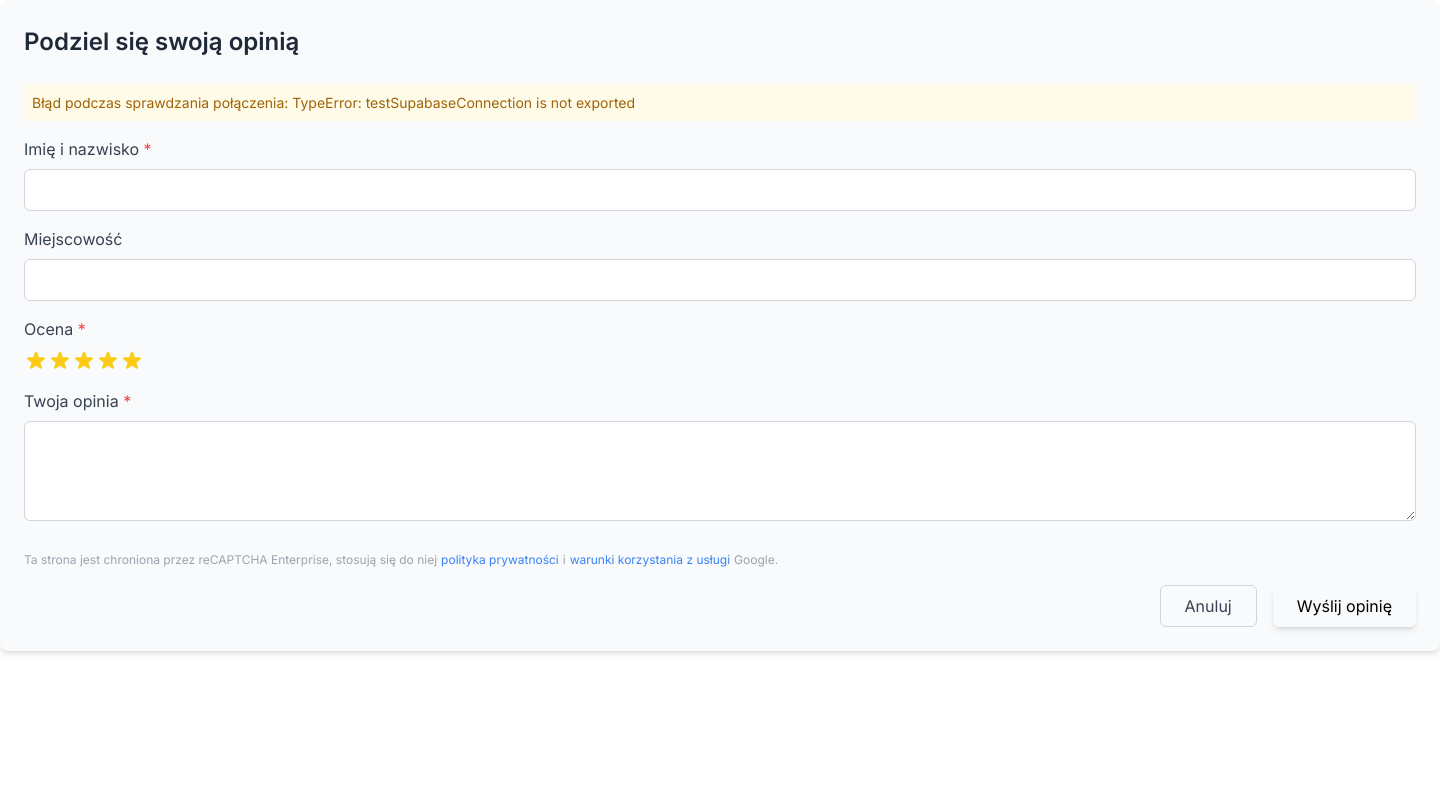
Test: TestimonialForm › obsługuje błąd podczas dodawania opinii
# Wypełnij formularz
Type "Jan Kowalski" into the field labelled "Imię i nazwisko *" at (720, 190), box left=24, top=169, right=1416, bottom=211
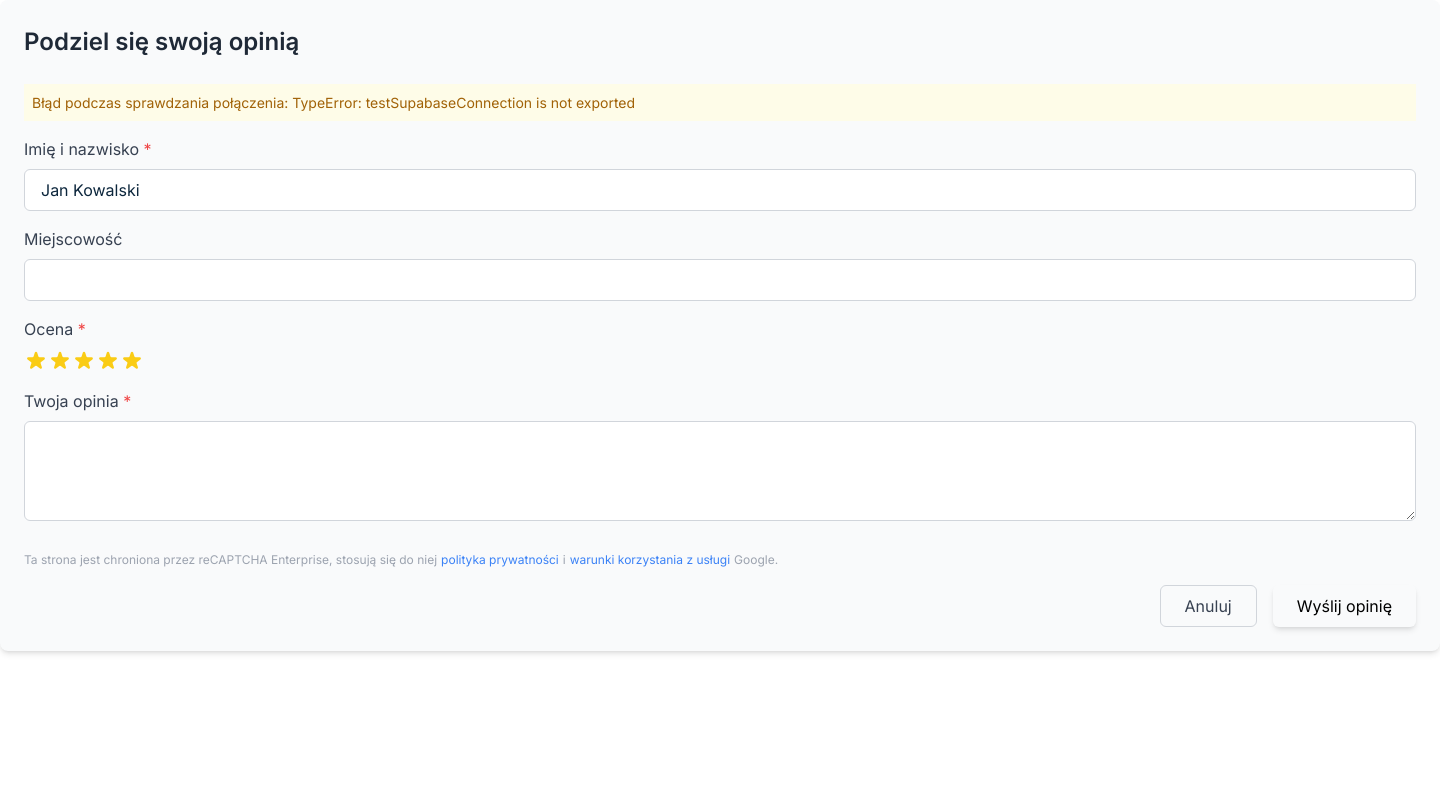
Type "Świetna obsługa, polecam!" into the text box labelled "Twoja opinia *" at (720, 471), box left=24, top=421, right=1416, bottom=521
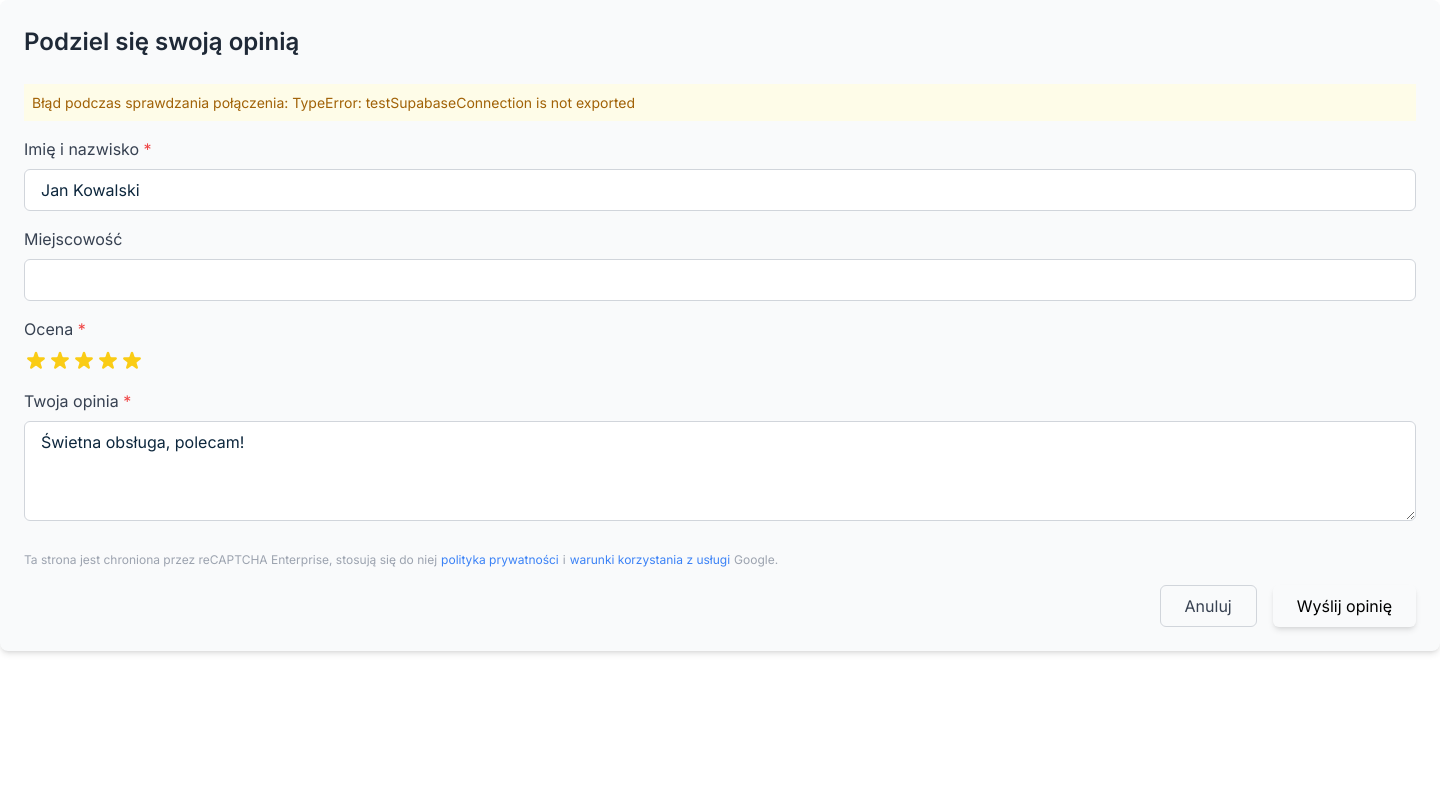
# Wyślij formularz
Click the button "Wyślij opinię" at (1344, 606), box left=1273, top=585, right=1416, bottom=627
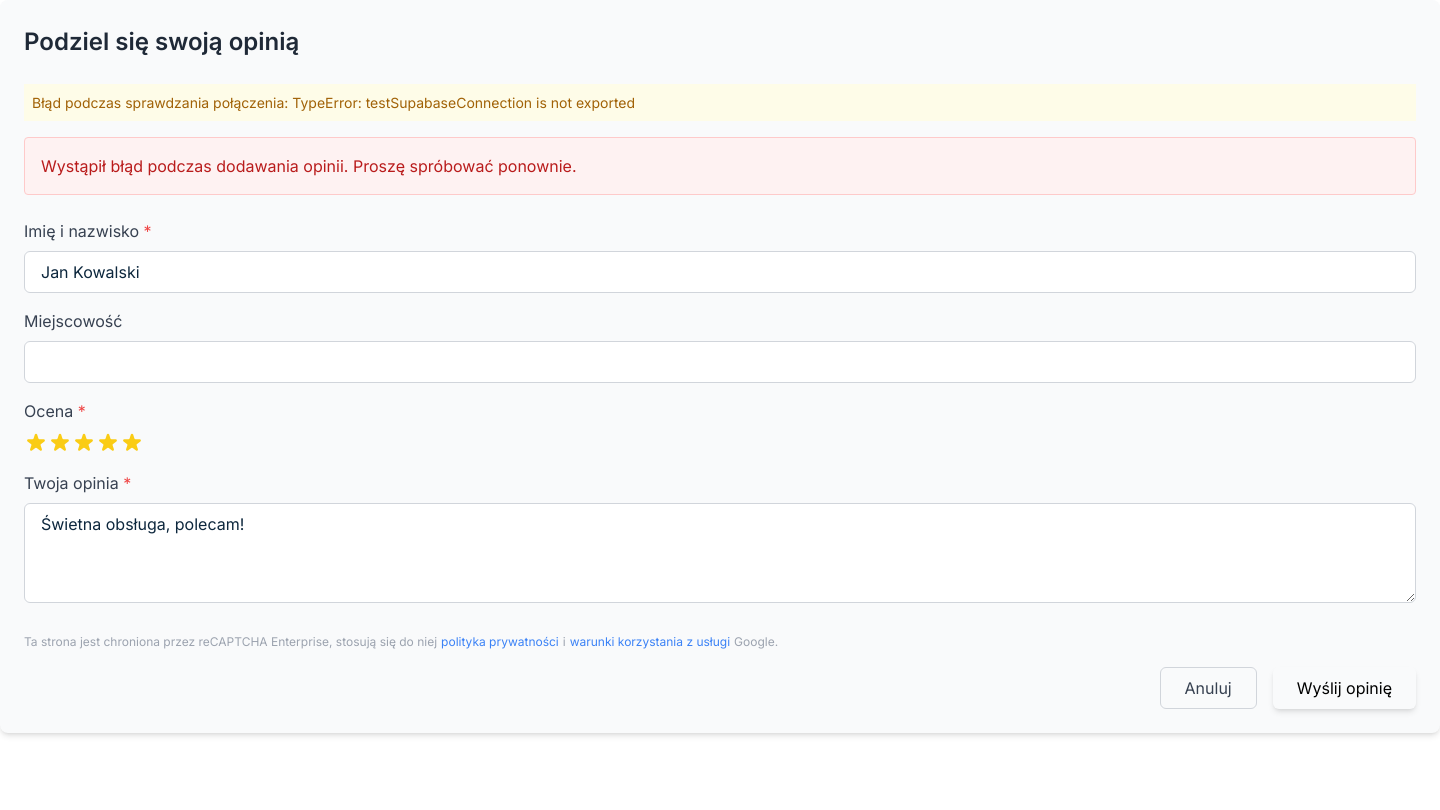
expect the text "Wystąpił błąd podczas dodawania opinii" is shown: met, box left=41, top=156, right=576, bottom=176
